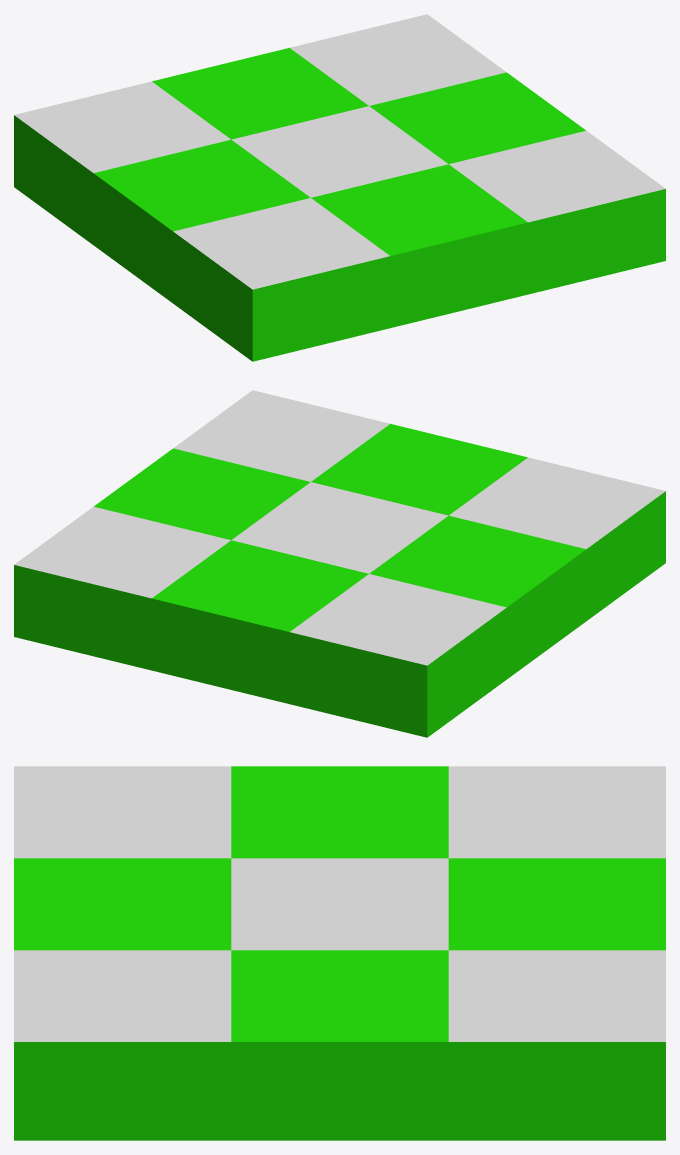
The model's file is Ground01.fbx.
3 views of the same model, one above another, from view 1: azimuth 30°, elevation 25°; view 2: azimuth 150°, elevation 25°; view 3: azimuth 270°, elevation 25° (orthographic). The views are drawn at different scales.
Visible parts, largest first — view 1: Ground; view 2: Ground; view 3: Ground.
Part boxes in pixels (x1,y1,x2,y2): Ground: (14, 14, 665, 361); Ground: (14, 390, 665, 737); Ground: (14, 766, 665, 1140).
Bounding box in the file's own units: 300 × 50 × 300.
